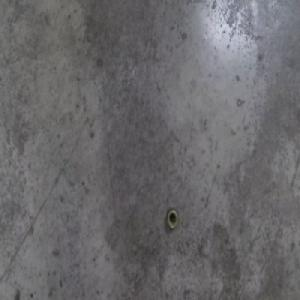Nut: (166, 207, 178, 231)
